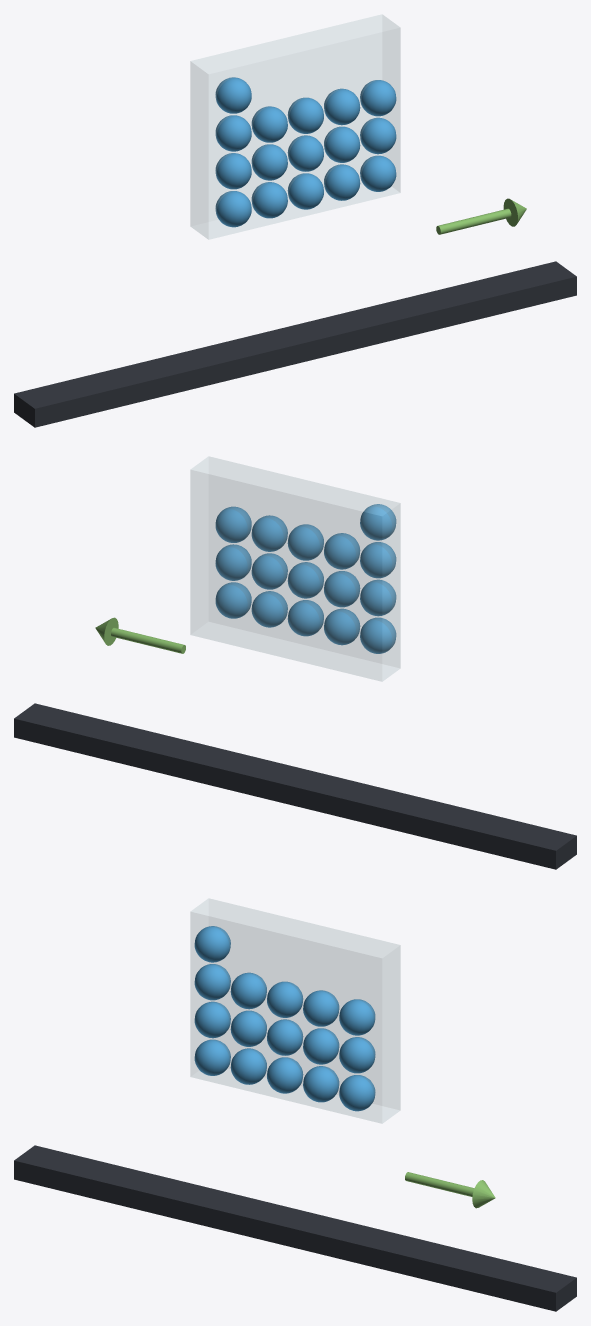
File: chem-stoich-mole.glb
The picture shows the model from 3 angles, top to bottom: view 1: azimuth 30°, elevation 25°; view 2: azimuth 150°, elevation 25°; view 3: azimuth 330°, elevation 25°; orthographic projection.
Parts seen in each view (by area): view 1: mole-stack-counting-box, stoichiometry-bench, particle-count-bundle-one-mole-particle-0, particle-count-bundle-one-mole-particle-1, particle-count-bundle-one-mole-particle-4, particle-count-bundle-one-mole-particle-9, particle-count-bundle-one-mole-particle-7, particle-count-bundle-one-mole-particle-5, particle-count-bundle-one-mole-particle-10, particle-count-bundle-one-mole-particle-11, particle-count-bundle-one-mole-particle-6, particle-count-bundle-one-mole-particle-15 (+7 smaller); view 2: mole-stack-counting-box, stoichiometry-bench, particle-count-bundle-one-mole-particle-15, particle-count-bundle-one-mole-particle-14, particle-count-bundle-one-mole-particle-3, particle-count-bundle-one-mole-particle-4, particle-count-bundle-one-mole-particle-9, particle-count-bundle-one-mole-particle-8, particle-count-bundle-one-mole-particle-13, particle-count-bundle-one-mole-particle-6, particle-count-bundle-one-mole-particle-10, particle-count-bundle-one-mole-particle-7 (+7 smaller); view 3: mole-stack-counting-box, stoichiometry-bench, particle-count-bundle-one-mole-particle-0, particle-count-bundle-one-mole-particle-3, particle-count-bundle-one-mole-particle-4, particle-count-bundle-one-mole-particle-5, particle-count-bundle-one-mole-particle-7, particle-count-bundle-one-mole-particle-15, particle-count-bundle-one-mole-particle-9, particle-count-bundle-one-mole-particle-13, particle-count-bundle-one-mole-particle-14, particle-count-bundle-one-mole-particle-8 (+7 smaller).
Part boxes in pixels (x1,y1,x2,y2): mole-stack-counting-box: [190, 14, 400, 239]; stoichiometry-bench: [14, 261, 576, 427]; particle-count-bundle-one-mole-particle-0: [215, 191, 251, 227]; particle-count-bundle-one-mole-particle-1: [251, 182, 287, 218]; particle-count-bundle-one-mole-particle-4: [360, 155, 396, 191]; particle-count-bundle-one-mole-particle-9: [360, 117, 396, 154]; particle-count-bundle-one-mole-particle-7: [287, 135, 323, 171]; particle-count-bundle-one-mole-particle-5: [215, 153, 251, 189]; particle-count-bundle-one-mole-particle-10: [215, 115, 251, 151]; particle-count-bundle-one-mole-particle-11: [251, 106, 287, 142]; particle-count-bundle-one-mole-particle-6: [251, 144, 287, 180]; particle-count-bundle-one-mole-particle-15: [215, 77, 251, 113]; mole-stack-counting-box: [190, 456, 400, 681]; stoichiometry-bench: [14, 703, 576, 869]; particle-count-bundle-one-mole-particle-15: [360, 504, 396, 540]; particle-count-bundle-one-mole-particle-14: [215, 506, 251, 542]; particle-count-bundle-one-mole-particle-3: [251, 591, 287, 627]; particle-count-bundle-one-mole-particle-4: [215, 582, 251, 618]; particle-count-bundle-one-mole-particle-9: [215, 544, 251, 580]; particle-count-bundle-one-mole-particle-8: [251, 553, 287, 589]; particle-count-bundle-one-mole-particle-13: [251, 515, 287, 551]; particle-count-bundle-one-mole-particle-6: [324, 571, 360, 607]; particle-count-bundle-one-mole-particle-10: [360, 542, 396, 578]; particle-count-bundle-one-mole-particle-7: [287, 562, 323, 598]; mole-stack-counting-box: [190, 898, 400, 1123]; stoichiometry-bench: [14, 1145, 576, 1311]; particle-count-bundle-one-mole-particle-0: [194, 1039, 230, 1075]; particle-count-bundle-one-mole-particle-3: [303, 1066, 339, 1102]; particle-count-bundle-one-mole-particle-4: [339, 1075, 375, 1111]; particle-count-bundle-one-mole-particle-5: [194, 1001, 230, 1038]; particle-count-bundle-one-mole-particle-7: [267, 1019, 303, 1055]; particle-count-bundle-one-mole-particle-15: [194, 926, 230, 962]; particle-count-bundle-one-mole-particle-9: [339, 1037, 375, 1073]; particle-count-bundle-one-mole-particle-13: [303, 990, 339, 1026]; particle-count-bundle-one-mole-particle-14: [339, 999, 375, 1035]; particle-count-bundle-one-mole-particle-8: [303, 1028, 339, 1064].
Size of what is drawn, in the model's own units: 2.4 by 1.31 by 0.2558.
